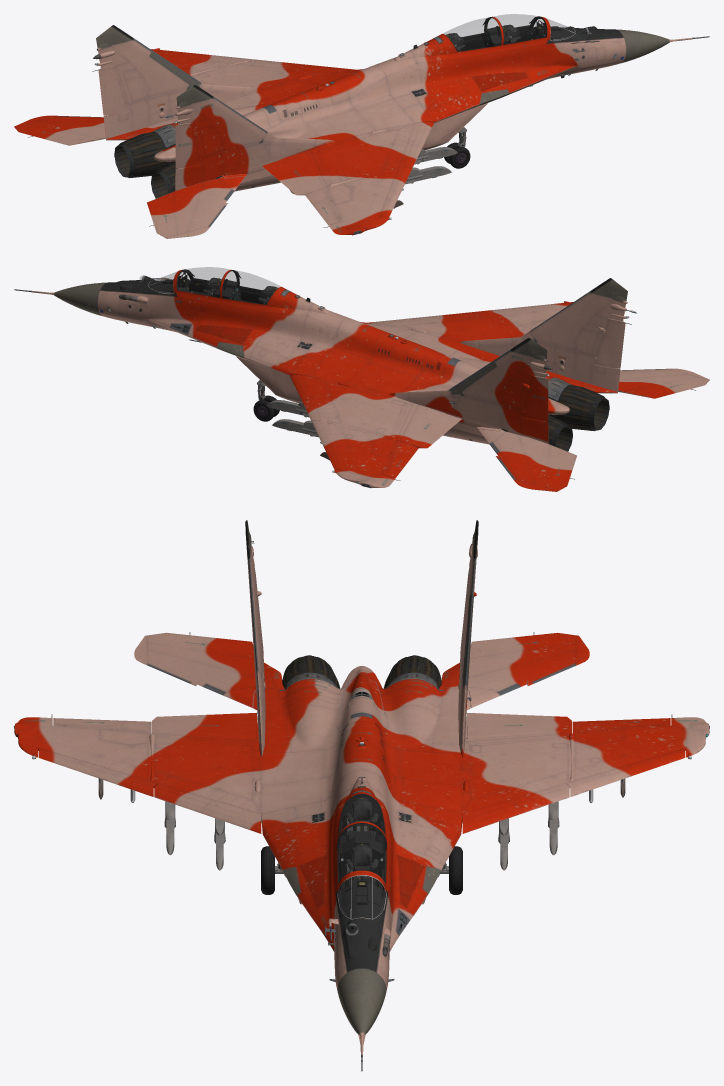
3 renders of one model, top to bottom at view 1: azimuth 30°, elevation 25°; view 2: azimuth 150°, elevation 25°; view 3: azimuth 270°, elevation 25°, orthographic. The views are drawn at different scales.
Visible parts, largest first — view 1: Object_41, Object_35, Object_32, Object_8, Object_20; view 2: Object_41, Object_35, Object_32, Object_8, Object_20; view 3: Object_41, Object_32, Object_35, Object_8, Object_38, Object_20.
Part boxes in pixels (x1,y1,x2,y2): Object_41: (14,16,709,238); Object_35: (443,14,546,51); Object_32: (445,16,575,51); Object_8: (405,147,457,184); Object_20: (444,127,470,168); Object_41: (14,269,709,491); Object_35: (177,267,280,304); Object_32: (148,269,278,304); Object_8: (266,400,318,437); Object_20: (253,380,279,421); Object_41: (14,520,709,1071); Object_32: (337,794,386,918); Object_35: (336,794,387,882); Object_8: (164,801,559,870); Object_38: (338,876,385,918); Object_20: (261,846,462,894).
Bounding box in the file's own units: 176 × 49.95 × 120.
4 materials, 2 textured.
